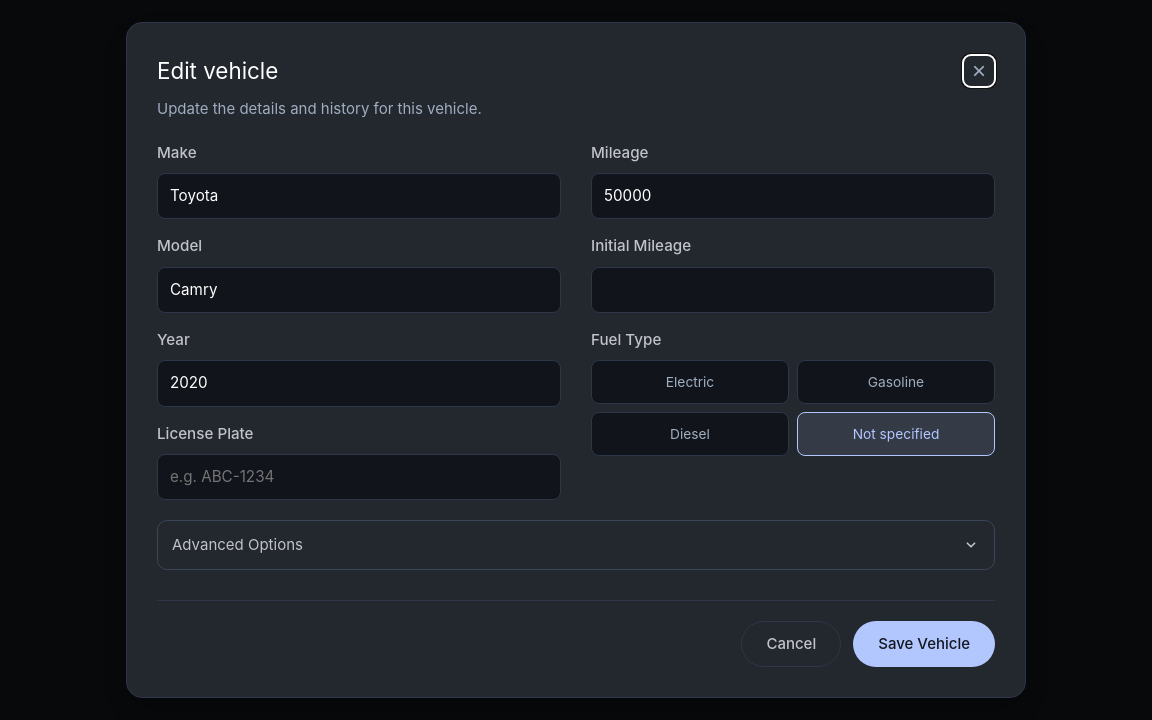
Test: vehicle editing › preserves negative currency formatting and filters mileage while typing
This screenshot has width=1152, height=720.
Expected: the element showing "Advanced Options" holds "-100.10", [157,520,995,570]
Replace the text in the field with id "edit-mileage" with "50k.25" at x=793, y=196, box [591,173,995,219]
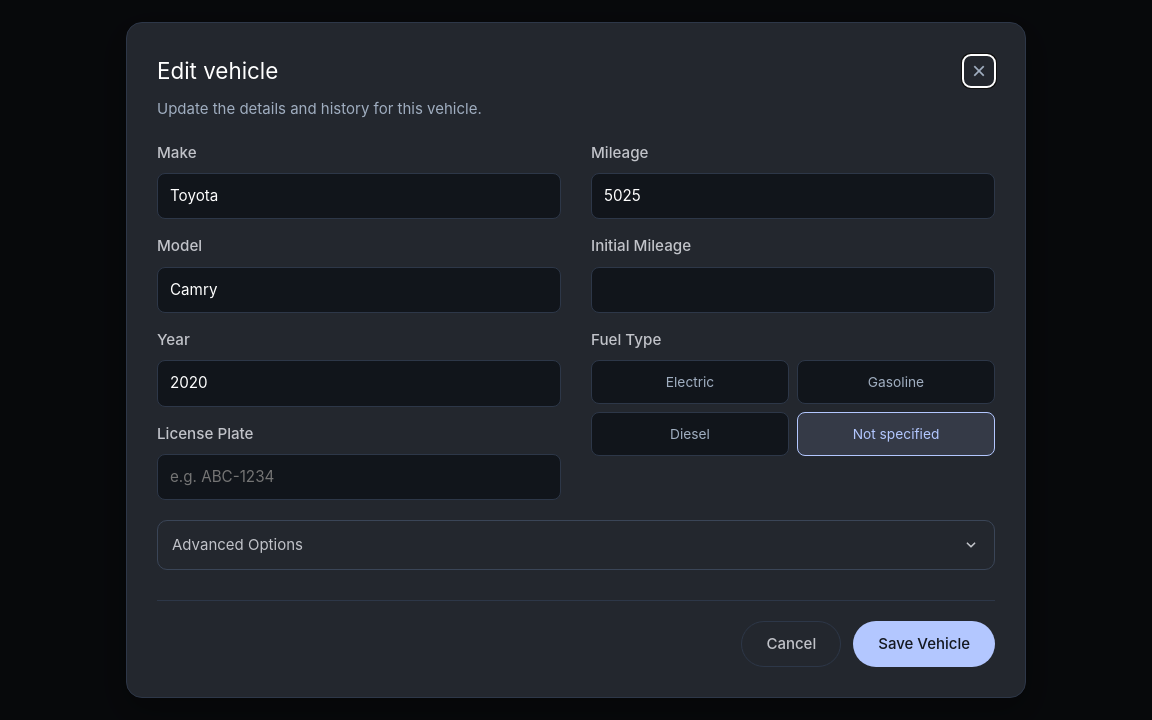
Expected: the field with id "edit-mileage" holds "5025", [591,173,995,219]
